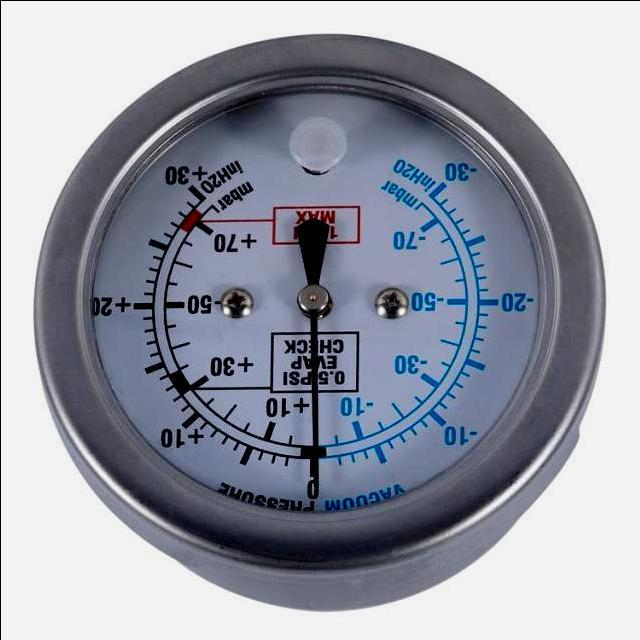Needle_Tip: (287, 414, 340, 475)
Needle_base: (274, 276, 348, 323)
max_value: (148, 138, 228, 190)
min_value: (378, 149, 514, 190)
